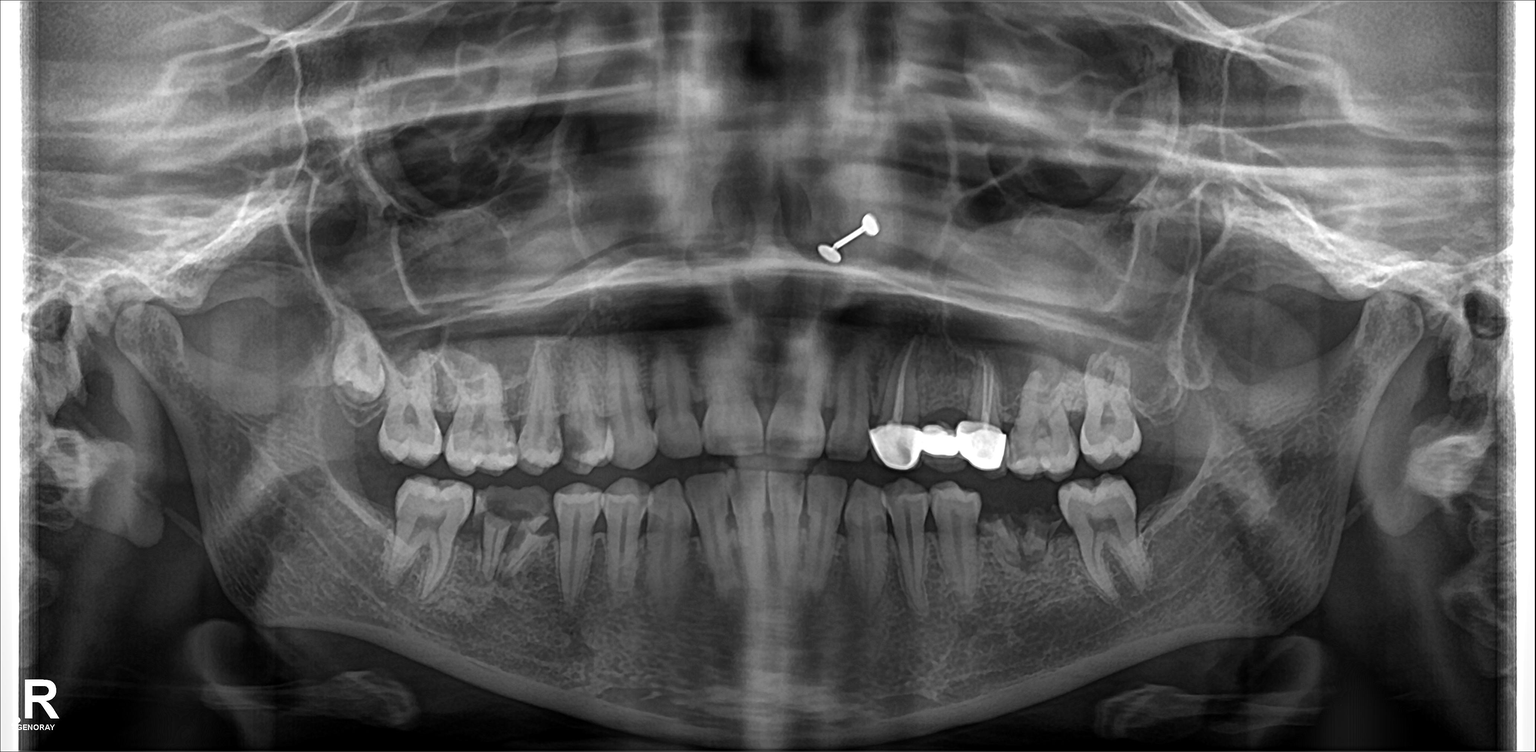Dental Caries: (484, 486, 550, 520), (562, 421, 596, 457)
Endodontically Treated Tooth: (879, 344, 919, 469), (968, 352, 1004, 468), (922, 352, 958, 460)
Impacted Third Molar: (313, 307, 387, 405)
Missing Tooth: (341, 443, 396, 565), (1132, 344, 1183, 432), (1140, 471, 1187, 557)
Retained Root: (477, 490, 553, 588), (981, 493, 1021, 593), (1026, 490, 1058, 581)
